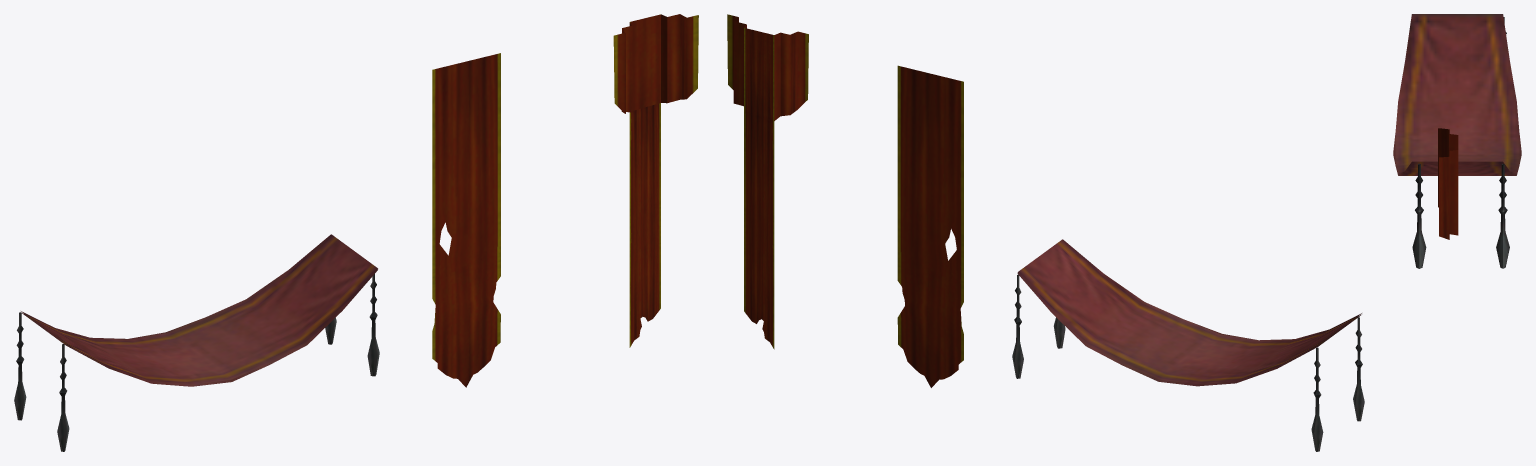
File: d_103_cloth.FBX
3 renders of one model, left to right at view 1: azimuth 30°, elevation 25°; view 2: azimuth 150°, elevation 25°; view 3: azimuth 270°, elevation 25°, orthographic. The views are drawn at different scales.
Parts seen in each view (by area): view 1: d_103_cloth02, d_103_cloth03, d_103_cloth01; view 2: d_103_cloth02, d_103_cloth03, d_103_cloth01; view 3: d_103_cloth03, d_103_cloth01.
Part boxes in pixels (x1,y1,x2,y2): d_103_cloth02: (432,53,500,387); d_103_cloth03: (14,234,379,451); d_103_cloth01: (613,14,698,347); d_103_cloth02: (897,65,963,387); d_103_cloth03: (1012,239,1364,451); d_103_cloth01: (727,14,808,349); d_103_cloth03: (1393,14,1521,268); d_103_cloth01: (1438,128,1458,239).
Size of the model in its own units: 579 by 277 by 102.
